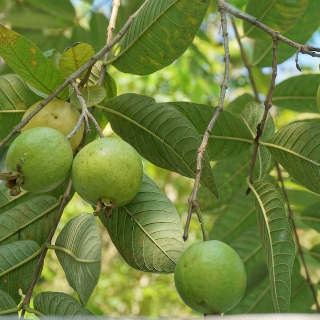oi: (174, 240, 247, 315), (73, 138, 142, 207), (4, 127, 74, 195)
